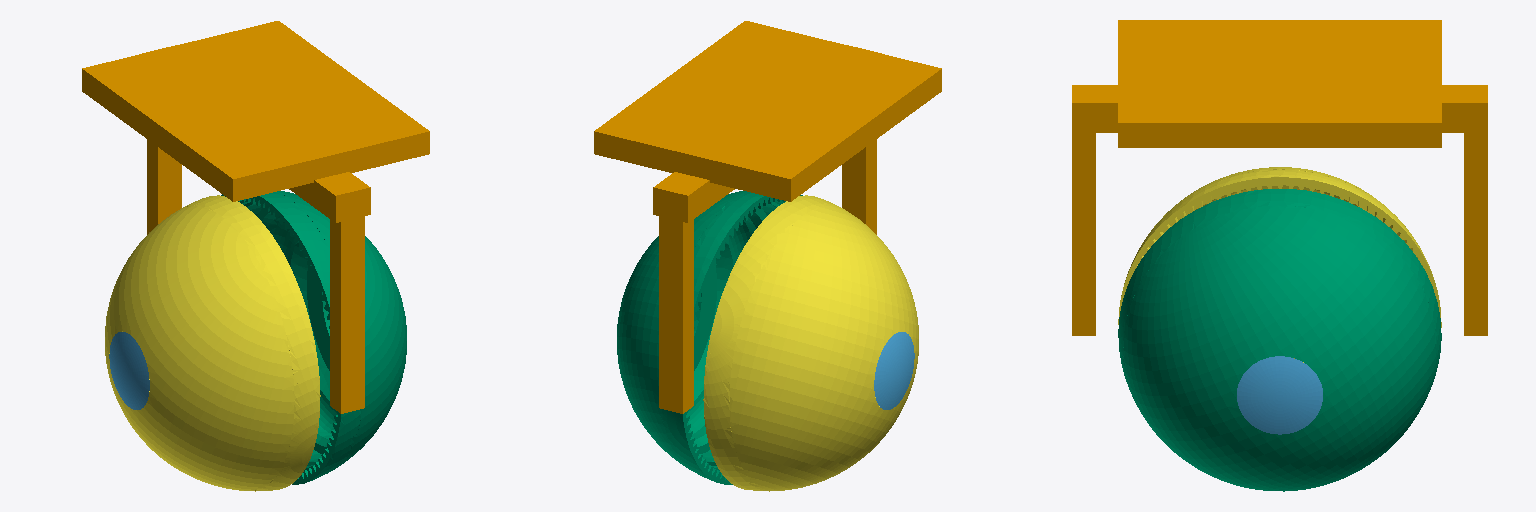
URDF robot description (active_spherical_wheel_approximate):
<?xml version='1.0' encoding='utf-8'?>
<robot name="active_spherical_wheel_approximate">
  <!--Free root fork. URDF preserves geometry, masses and 3 revolutes; moving belt surface control requires the MuJoCo simulator.-->
  <link name="fork">
    <inertial>
      <origin xyz="0 0 0.191088617046" rpy="0 0 0" />
      <mass value="1.2" />
      <inertia ixx="0.00848236218221" iyy="0.00380921331936" izz="0.0101003972892" ixy="0" ixz="0" iyz="0" />
    </inertial>
    <visual name="fork_arm_left">
      <origin xyz="0 0.145 0.0925" rpy="0 0 0" />
      <geometry>
        <box size="0.022 0.018 0.185" />
      </geometry>
    </visual>
    <collision name="fork_arm_left">
      <origin xyz="0 0.145 0.0925" rpy="0 0 0" />
      <geometry>
        <box size="0.022 0.018 0.185" />
      </geometry>
    </collision>
    <visual name="fork_arm_right">
      <origin xyz="0 -0.145 0.0925" rpy="0 0 0" />
      <geometry>
        <box size="0.022 0.018 0.185" />
      </geometry>
    </visual>
    <collision name="fork_arm_right">
      <origin xyz="0 -0.145 0.0925" rpy="0 0 0" />
      <geometry>
        <box size="0.022 0.018 0.185" />
      </geometry>
    </collision>
    <visual name="fork_bridge">
      <origin xyz="0 0 0.18" rpy="0 0 0" />
      <geometry>
        <box size="0.032 0.308 0.024" />
      </geometry>
    </visual>
    <collision name="fork_bridge">
      <origin xyz="0 0 0.18" rpy="0 0 0" />
      <geometry>
        <box size="0.032 0.308 0.024" />
      </geometry>
    </collision>
    <visual name="platform">
      <origin xyz="0 0 0.2" rpy="0 0 0" />
      <geometry>
        <box size="0.18 0.24 0.02" />
      </geometry>
    </visual>
    <collision name="platform">
      <origin xyz="0 0 0.2" rpy="0 0 0" />
      <geometry>
        <box size="0.18 0.24 0.02" />
      </geometry>
    </collision>
  </link>
  <link name="carrier">
    <inertial>
      <origin xyz="0 0 0" rpy="0 0 0" />
      <mass value="0.36" />
      <inertia ixx="0.000295253333298" iyy="0.00194542575563" izz="0.00194542575563" ixy="0" ixz="0" iyz="0" />
    </inertial>
    <visual name="belt_A">
      <geometry>
        <mesh filename="meshes/belt_A.obj" scale="1 1 1" />
      </geometry>
    </visual>
    <collision name="belt_A">
      <geometry>
        <mesh filename="meshes/belt_A.obj" scale="1 1 1" />
      </geometry>
    </collision>
    <visual name="belt_B">
      <geometry>
        <mesh filename="meshes/belt_B.obj" scale="1 1 1" />
      </geometry>
    </visual>
    <collision name="belt_B">
      <geometry>
        <mesh filename="meshes/belt_B.obj" scale="1 1 1" />
      </geometry>
    </collision>
    <visual name="native_carrier">
      <geometry>
        <mesh filename="meshes/native_carrier.obj" scale="1 1 1" />
      </geometry>
    </visual>
  </link>
  <link name="shell_A">
    <inertial>
      <origin xyz="0.0604911092127 0 0" rpy="0 0 0" />
      <mass value="0.15" />
      <inertia ixx="0.0013135150602" iyy="0.000784611313744" izz="0.000784611313744" ixy="0" ixz="0" iyz="0" />
    </inertial>
    <collision name="shell_A_sector_000">
      <geometry>
        <mesh filename="meshes/shell_A_sector_000.obj" scale="1 1 1" />
      </geometry>
    </collision>
    <collision name="shell_A_sector_001">
      <geometry>
        <mesh filename="meshes/shell_A_sector_001.obj" scale="1 1 1" />
      </geometry>
    </collision>
    <collision name="shell_A_sector_002">
      <geometry>
        <mesh filename="meshes/shell_A_sector_002.obj" scale="1 1 1" />
      </geometry>
    </collision>
    <collision name="shell_A_sector_003">
      <geometry>
        <mesh filename="meshes/shell_A_sector_003.obj" scale="1 1 1" />
      </geometry>
    </collision>
    <collision name="shell_A_sector_004">
      <geometry>
        <mesh filename="meshes/shell_A_sector_004.obj" scale="1 1 1" />
      </geometry>
    </collision>
    <collision name="shell_A_sector_005">
      <geometry>
        <mesh filename="meshes/shell_A_sector_005.obj" scale="1 1 1" />
      </geometry>
    </collision>
    <collision name="shell_A_sector_006">
      <geometry>
        <mesh filename="meshes/shell_A_sector_006.obj" scale="1 1 1" />
      </geometry>
    </collision>
    <collision name="shell_A_sector_007">
      <geometry>
        <mesh filename="meshes/shell_A_sector_007.obj" scale="1 1 1" />
      </geometry>
    </collision>
    <collision name="shell_A_sector_008">
      <geometry>
        <mesh filename="meshes/shell_A_sector_008.obj" scale="1 1 1" />
      </geometry>
    </collision>
    <collision name="shell_A_sector_009">
      <geometry>
        <mesh filename="meshes/shell_A_sector_009.obj" scale="1 1 1" />
      </geometry>
    </collision>
    <collision name="shell_A_sector_010">
      <geometry>
        <mesh filename="meshes/shell_A_sector_010.obj" scale="1 1 1" />
      </geometry>
    </collision>
    <collision name="shell_A_sector_011">
      <geometry>
        <mesh filename="meshes/shell_A_sector_011.obj" scale="1 1 1" />
      </geometry>
    </collision>
    <collision name="shell_A_sector_012">
      <geometry>
        <mesh filename="meshes/shell_A_sector_012.obj" scale="1 1 1" />
      </geometry>
    </collision>
    <collision name="shell_A_sector_013">
      <geometry>
        <mesh filename="meshes/shell_A_sector_013.obj" scale="1 1 1" />
      </geometry>
    </collision>
    <collision name="shell_A_sector_014">
      <geometry>
        <mesh filename="meshes/shell_A_sector_014.obj" scale="1 1 1" />
      </geometry>
    </collision>
    <collision name="shell_A_sector_015">
      <geometry>
        <mesh filename="meshes/shell_A_sector_015.obj" scale="1 1 1" />
      </geometry>
    </collision>
    <collision name="shell_A_sector_016">
      <geometry>
        <mesh filename="meshes/shell_A_sector_016.obj" scale="1 1 1" />
      </geometry>
    </collision>
    <collision name="shell_A_sector_017">
      <geometry>
        <mesh filename="meshes/shell_A_sector_017.obj" scale="1 1 1" />
      </geometry>
    </collision>
    <collision name="shell_A_sector_018">
      <geometry>
        <mesh filename="meshes/shell_A_sector_018.obj" scale="1 1 1" />
      </geometry>
    </collision>
    <collision name="shell_A_sector_019">
      <geometry>
        <mesh filename="meshes/shell_A_sector_019.obj" scale="1 1 1" />
      </geometry>
    </collision>
    <collision name="shell_A_sector_020">
      <geometry>
        <mesh filename="meshes/shell_A_sector_020.obj" scale="1 1 1" />
      </geometry>
    </collision>
    <collision name="shell_A_sector_021">
      <geometry>
        <mesh filename="meshes/shell_A_sector_021.obj" scale="1 1 1" />
      </geometry>
    </collision>
    <collision name="shell_A_sector_022">
      <geometry>
        <mesh filename="meshes/shell_A_sector_022.obj" scale="1 1 1" />
      </geometry>
    </collision>
    <collision name="shell_A_sector_023">
      <geometry>
        <mesh filename="meshes/shell_A_sector_023.obj" scale="1 1 1" />
      </geometry>
    </collision>
    <collision name="shell_A_sector_024">
      <geometry>
        <mesh filename="meshes/shell_A_sector_024.obj" scale="1 1 1" />
      </geometry>
    </collision>
    <collision name="shell_A_sector_025">
      <geometry>
        <mesh filename="meshes/shell_A_sector_025.obj" scale="1 1 1" />
      </geometry>
    </collision>
    <collision name="shell_A_sector_026">
      <geometry>
        <mesh filename="meshes/shell_A_sector_026.obj" scale="1 1 1" />
      </geometry>
    </collision>
    <collision name="shell_A_sector_027">
      <geometry>
        <mesh filename="meshes/shell_A_sector_027.obj" scale="1 1 1" />
      </geometry>
    </collision>
    <collision name="shell_A_sector_028">
      <geometry>
        <mesh filename="meshes/shell_A_sector_028.obj" scale="1 1 1" />
      </geometry>
    </collision>
    <collision name="shell_A_sector_029">
      <geometry>
        <mesh filename="meshes/shell_A_sector_029.obj" scale="1 1 1" />
      </geometry>
    </collision>
    <collision name="shell_A_sector_030">
      <geometry>
        <mesh filename="meshes/shell_A_sector_030.obj" scale="1 1 1" />
      </geometry>
    </collision>
    <collision name="shell_A_sector_031">
      <geometry>
        <mesh filename="meshes/shell_A_sector_031.obj" scale="1 1 1" />
      </geometry>
    </collision>
    <collision name="shell_A_sector_032">
      <geometry>
        <mesh filename="meshes/shell_A_sector_032.obj" scale="1 1 1" />
      </geometry>
    </collision>
    <collision name="shell_A_sector_033">
      <geometry>
        <mesh filename="meshes/shell_A_sector_033.obj" scale="1 1 1" />
      </geometry>
    </collision>
    <collision name="shell_A_sector_034">
      <geometry>
        <mesh filename="meshes/shell_A_sector_034.obj" scale="1 1 1" />
      </geometry>
    </collision>
    <collision name="shell_A_sector_035">
      <geometry>
        <mesh filename="meshes/shell_A_sector_035.obj" scale="1 1 1" />
      </geometry>
    </collision>
    <collision name="shell_A_sector_036">
      <geometry>
        <mesh filename="meshes/shell_A_sector_036.obj" scale="1 1 1" />
      </geometry>
    </collision>
    <collision name="shell_A_sector_037">
      <geometry>
        <mesh filename="meshes/shell_A_sector_037.obj" scale="1 1 1" />
      </geometry>
    </collision>
    <collision name="shell_A_sector_038">
      <geometry>
        <mesh filename="meshes/shell_A_sector_038.obj" scale="1 1 1" />
      </geometry>
    </collision>
    <collision name="shell_A_sector_039">
      <geometry>
        <mesh filename="meshes/shell_A_sector_039.obj" scale="1 1 1" />
      </geometry>
    </collision>
    <collision name="shell_A_sector_040">
      <geometry>
        <mesh filename="meshes/shell_A_sector_040.obj" scale="1 1 1" />
      </geometry>
    </collision>
    <collision name="shell_A_sector_041">
      <geometry>
        <mesh filename="meshes/shell_A_sector_041.obj" scale="1 1 1" />
      </geometry>
    </collision>
    <collision name="shell_A_sector_042">
      <geometry>
        <mesh filename="meshes/shell_A_sector_042.obj" scale="1 1 1" />
      </geometry>
    </collision>
    <collision name="shell_A_sector_043">
      <geometry>
        <mesh filename="meshes/shell_A_sector_043.obj" scale="1 1 1" />
      </geometry>
    </collision>
    <collision name="shell_A_sector_044">
      <geometry>
        <mesh filename="meshes/shell_A_sector_044.obj" scale="1 1 1" />
      </geometry>
    </collision>
    <collision name="shell_A_sector_045">
      <geometry>
        <mesh filename="meshes/shell_A_sector_045.obj" scale="1 1 1" />
      </geometry>
    </collision>
    <collision name="shell_A_sector_046">
      <geometry>
        <mesh filename="meshes/shell_A_sector_046.obj" scale="1 1 1" />
      </geometry>
    </collision>
    <collision name="shell_A_sector_047">
      <geometry>
        <mesh filename="meshes/shell_A_sector_047.obj" scale="1 1 1" />
      </geometry>
    </collision>
    <visual name="native_shell_A">
      <geometry>
        <mesh filename="meshes/native_shell_positive.obj" scale="1 1 1" />
      </geometry>
    </visual>
  </link>
  <link name="shell_B">
    <inertial>
      <origin xyz="-0.0604911092127 0 0" rpy="0 0 0" />
      <mass value="0.15" />
      <inertia ixx="0.0013135150602" iyy="0.000784611313744" izz="0.000784611313744" ixy="0" ixz="0" iyz="0" />
    </inertial>
    <collision name="shell_B_sector_000">
      <geometry>
        <mesh filename="meshes/shell_B_sector_000.obj" scale="1 1 1" />
      </geometry>
    </collision>
    <collision name="shell_B_sector_001">
      <geometry>
        <mesh filename="meshes/shell_B_sector_001.obj" scale="1 1 1" />
      </geometry>
    </collision>
    <collision name="shell_B_sector_002">
      <geometry>
        <mesh filename="meshes/shell_B_sector_002.obj" scale="1 1 1" />
      </geometry>
    </collision>
    <collision name="shell_B_sector_003">
      <geometry>
        <mesh filename="meshes/shell_B_sector_003.obj" scale="1 1 1" />
      </geometry>
    </collision>
    <collision name="shell_B_sector_004">
      <geometry>
        <mesh filename="meshes/shell_B_sector_004.obj" scale="1 1 1" />
      </geometry>
    </collision>
    <collision name="shell_B_sector_005">
      <geometry>
        <mesh filename="meshes/shell_B_sector_005.obj" scale="1 1 1" />
      </geometry>
    </collision>
    <collision name="shell_B_sector_006">
      <geometry>
        <mesh filename="meshes/shell_B_sector_006.obj" scale="1 1 1" />
      </geometry>
    </collision>
    <collision name="shell_B_sector_007">
      <geometry>
        <mesh filename="meshes/shell_B_sector_007.obj" scale="1 1 1" />
      </geometry>
    </collision>
    <collision name="shell_B_sector_008">
      <geometry>
        <mesh filename="meshes/shell_B_sector_008.obj" scale="1 1 1" />
      </geometry>
    </collision>
    <collision name="shell_B_sector_009">
      <geometry>
        <mesh filename="meshes/shell_B_sector_009.obj" scale="1 1 1" />
      </geometry>
    </collision>
    <collision name="shell_B_sector_010">
      <geometry>
        <mesh filename="meshes/shell_B_sector_010.obj" scale="1 1 1" />
      </geometry>
    </collision>
    <collision name="shell_B_sector_011">
      <geometry>
        <mesh filename="meshes/shell_B_sector_011.obj" scale="1 1 1" />
      </geometry>
    </collision>
    <collision name="shell_B_sector_012">
      <geometry>
        <mesh filename="meshes/shell_B_sector_012.obj" scale="1 1 1" />
      </geometry>
    </collision>
    <collision name="shell_B_sector_013">
      <geometry>
        <mesh filename="meshes/shell_B_sector_013.obj" scale="1 1 1" />
      </geometry>
    </collision>
    <collision name="shell_B_sector_014">
      <geometry>
        <mesh filename="meshes/shell_B_sector_014.obj" scale="1 1 1" />
      </geometry>
    </collision>
    <collision name="shell_B_sector_015">
      <geometry>
        <mesh filename="meshes/shell_B_sector_015.obj" scale="1 1 1" />
      </geometry>
    </collision>
    <collision name="shell_B_sector_016">
      <geometry>
        <mesh filename="meshes/shell_B_sector_016.obj" scale="1 1 1" />
      </geometry>
    </collision>
    <collision name="shell_B_sector_017">
      <geometry>
        <mesh filename="meshes/shell_B_sector_017.obj" scale="1 1 1" />
      </geometry>
    </collision>
    <collision name="shell_B_sector_018">
      <geometry>
        <mesh filename="meshes/shell_B_sector_018.obj" scale="1 1 1" />
      </geometry>
    </collision>
    <collision name="shell_B_sector_019">
      <geometry>
        <mesh filename="meshes/shell_B_sector_019.obj" scale="1 1 1" />
      </geometry>
    </collision>
    <collision name="shell_B_sector_020">
      <geometry>
        <mesh filename="meshes/shell_B_sector_020.obj" scale="1 1 1" />
      </geometry>
    </collision>
    <collision name="shell_B_sector_021">
      <geometry>
        <mesh filename="meshes/shell_B_sector_021.obj" scale="1 1 1" />
      </geometry>
    </collision>
    <collision name="shell_B_sector_022">
      <geometry>
        <mesh filename="meshes/shell_B_sector_022.obj" scale="1 1 1" />
      </geometry>
    </collision>
    <collision name="shell_B_sector_023">
      <geometry>
        <mesh filename="meshes/shell_B_sector_023.obj" scale="1 1 1" />
      </geometry>
    </collision>
    <collision name="shell_B_sector_024">
      <geometry>
        <mesh filename="meshes/shell_B_sector_024.obj" scale="1 1 1" />
      </geometry>
    </collision>
    <collision name="shell_B_sector_025">
      <geometry>
        <mesh filename="meshes/shell_B_sector_025.obj" scale="1 1 1" />
      </geometry>
    </collision>
    <collision name="shell_B_sector_026">
      <geometry>
        <mesh filename="meshes/shell_B_sector_026.obj" scale="1 1 1" />
      </geometry>
    </collision>
    <collision name="shell_B_sector_027">
      <geometry>
        <mesh filename="meshes/shell_B_sector_027.obj" scale="1 1 1" />
      </geometry>
    </collision>
    <collision name="shell_B_sector_028">
      <geometry>
        <mesh filename="meshes/shell_B_sector_028.obj" scale="1 1 1" />
      </geometry>
    </collision>
    <collision name="shell_B_sector_029">
      <geometry>
        <mesh filename="meshes/shell_B_sector_029.obj" scale="1 1 1" />
      </geometry>
    </collision>
    <collision name="shell_B_sector_030">
      <geometry>
        <mesh filename="meshes/shell_B_sector_030.obj" scale="1 1 1" />
      </geometry>
    </collision>
    <collision name="shell_B_sector_031">
      <geometry>
        <mesh filename="meshes/shell_B_sector_031.obj" scale="1 1 1" />
      </geometry>
    </collision>
    <collision name="shell_B_sector_032">
      <geometry>
        <mesh filename="meshes/shell_B_sector_032.obj" scale="1 1 1" />
      </geometry>
    </collision>
    <collision name="shell_B_sector_033">
      <geometry>
        <mesh filename="meshes/shell_B_sector_033.obj" scale="1 1 1" />
      </geometry>
    </collision>
    <collision name="shell_B_sector_034">
      <geometry>
        <mesh filename="meshes/shell_B_sector_034.obj" scale="1 1 1" />
      </geometry>
    </collision>
    <collision name="shell_B_sector_035">
      <geometry>
        <mesh filename="meshes/shell_B_sector_035.obj" scale="1 1 1" />
      </geometry>
    </collision>
    <collision name="shell_B_sector_036">
      <geometry>
        <mesh filename="meshes/shell_B_sector_036.obj" scale="1 1 1" />
      </geometry>
    </collision>
    <collision name="shell_B_sector_037">
      <geometry>
        <mesh filename="meshes/shell_B_sector_037.obj" scale="1 1 1" />
      </geometry>
    </collision>
    <collision name="shell_B_sector_038">
      <geometry>
        <mesh filename="meshes/shell_B_sector_038.obj" scale="1 1 1" />
      </geometry>
    </collision>
    <collision name="shell_B_sector_039">
      <geometry>
        <mesh filename="meshes/shell_B_sector_039.obj" scale="1 1 1" />
      </geometry>
    </collision>
    <collision name="shell_B_sector_040">
      <geometry>
        <mesh filename="meshes/shell_B_sector_040.obj" scale="1 1 1" />
      </geometry>
    </collision>
    <collision name="shell_B_sector_041">
      <geometry>
        <mesh filename="meshes/shell_B_sector_041.obj" scale="1 1 1" />
      </geometry>
    </collision>
    <collision name="shell_B_sector_042">
      <geometry>
        <mesh filename="meshes/shell_B_sector_042.obj" scale="1 1 1" />
      </geometry>
    </collision>
    <collision name="shell_B_sector_043">
      <geometry>
        <mesh filename="meshes/shell_B_sector_043.obj" scale="1 1 1" />
      </geometry>
    </collision>
    <collision name="shell_B_sector_044">
      <geometry>
        <mesh filename="meshes/shell_B_sector_044.obj" scale="1 1 1" />
      </geometry>
    </collision>
    <collision name="shell_B_sector_045">
      <geometry>
        <mesh filename="meshes/shell_B_sector_045.obj" scale="1 1 1" />
      </geometry>
    </collision>
    <collision name="shell_B_sector_046">
      <geometry>
        <mesh filename="meshes/shell_B_sector_046.obj" scale="1 1 1" />
      </geometry>
    </collision>
    <collision name="shell_B_sector_047">
      <geometry>
        <mesh filename="meshes/shell_B_sector_047.obj" scale="1 1 1" />
      </geometry>
    </collision>
    <visual name="native_shell_B">
      <geometry>
        <mesh filename="meshes/native_shell_negative.obj" scale="1 1 1" />
      </geometry>
    </visual>
  </link>
  <joint name="shaft" type="continuous">
    <parent link="fork" />
    <child link="carrier" />
    <origin xyz="0 0 0" rpy="0 0 0" />
    <axis xyz="0 1 0" />
    <limit effort="1.5" velocity="100" />
    <dynamics damping="0.0001" friction="0" />
  </joint>
  <joint name="shell_A_joint" type="continuous">
    <parent link="carrier" />
    <child link="shell_A" />
    <origin xyz="0 0 0" rpy="0 0 0" />
    <axis xyz="1 0 0" />
    <limit effort="0.6" velocity="100" />
    <dynamics damping="0.0001" friction="0" />
  </joint>
  <joint name="shell_B_joint" type="continuous">
    <parent link="carrier" />
    <child link="shell_B" />
    <origin xyz="0 0 0" rpy="0 0 0" />
    <axis xyz="1 0 0" />
    <limit effort="0.6" velocity="100" />
    <dynamics damping="0.0001" friction="0" />
  </joint>
</robot>

--- Facts derived from the render (not from the file) ---
The picture shows the robot from 3 angles, left to right: view 1: azimuth 30°, elevation 25°; view 2: azimuth 150°, elevation 25°; view 3: azimuth 270°, elevation 25°; orthographic projection.
Model active_spherical_wheel_approximate with 4 links and 3 joints (3 continuous), rooted at fork, posed all joints at 0.
Visible links, largest first — view 1: fork, shell_B, shell_A, carrier; view 2: fork, shell_B, shell_A, carrier; view 3: shell_A, fork, shell_B, carrier.
Boxes of the visible links, x1,y1,x2,y2 form: fork: (82,21,429,413); shell_B: (105,195,320,491); shell_A: (221,191,406,484); carrier: (109,332,149,409); fork: (594,21,941,413); shell_B: (703,195,918,491); shell_A: (617,191,802,484); carrier: (874,332,914,409); shell_A: (1118,189,1441,491); fork: (1072,20,1487,335); shell_B: (1118,167,1441,362); carrier: (1237,356,1322,434).
Size in the robot's own frame: 0.24 by 0.308 by 0.3296 metres.
4 mesh visuals loaded from 5 distinct referenced files (4 OBJ); not drawn: 1 (reference not matched to a file when rendering).
